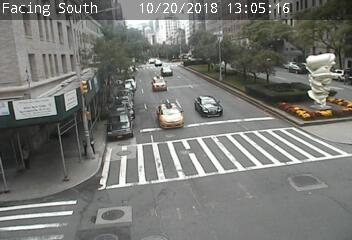car: (199, 95, 221, 118), (158, 102, 179, 126), (151, 78, 164, 89), (161, 63, 172, 75), (153, 57, 160, 66)
